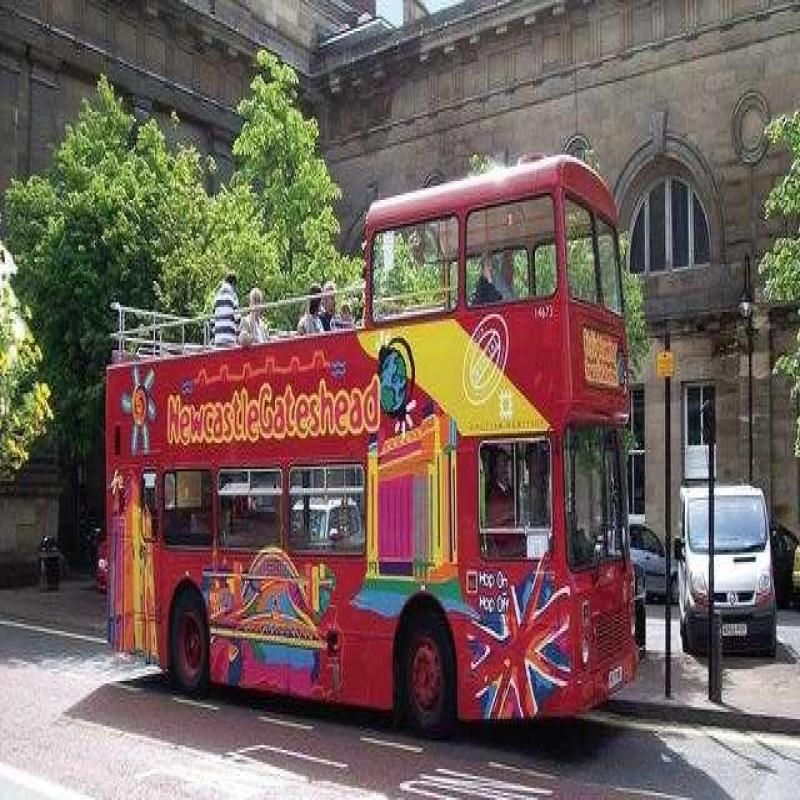bus: (94, 128, 643, 762)
